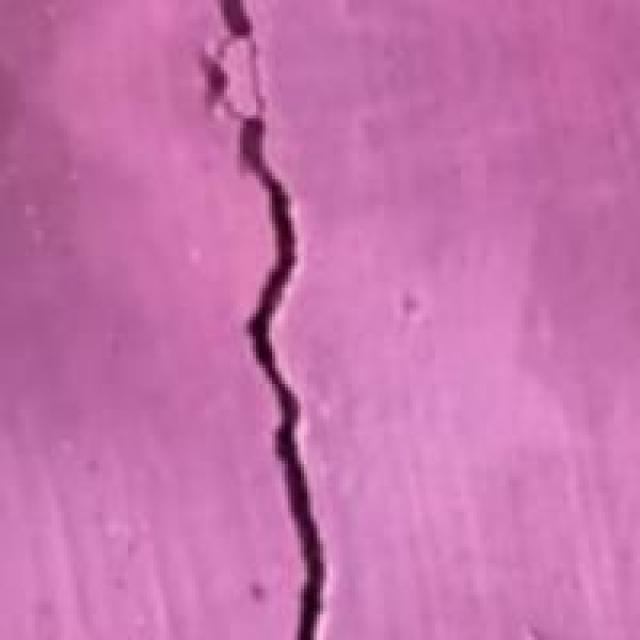crack: (176, 0, 419, 637)
